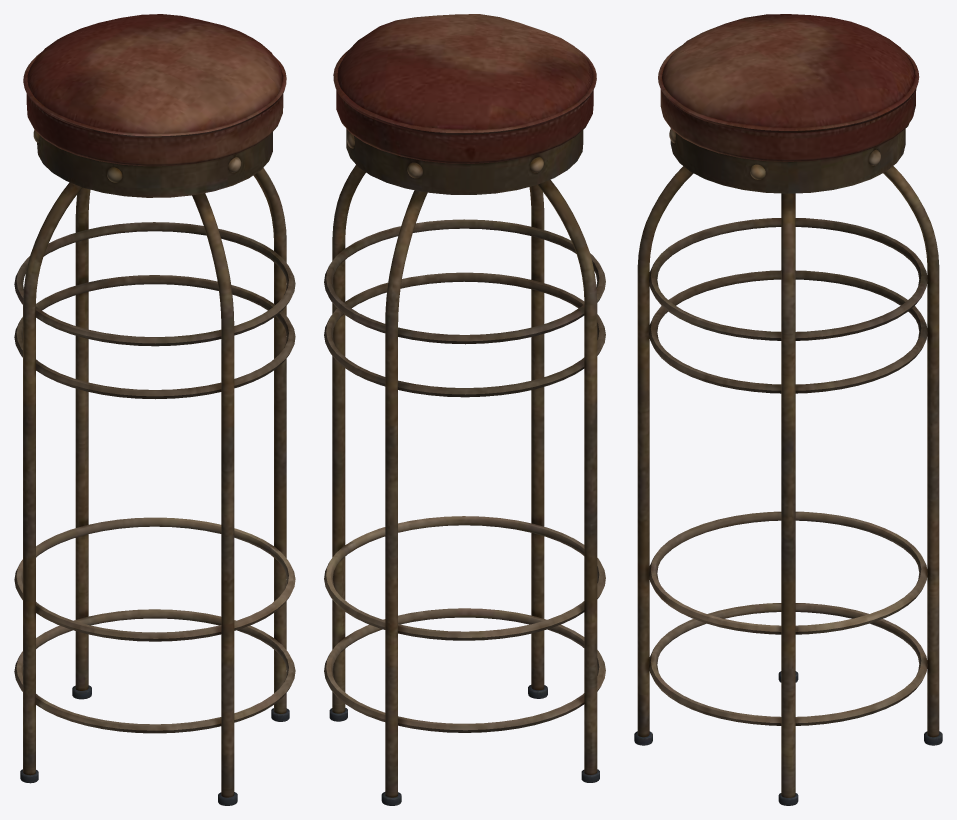
Rendered from metalstool.glb.
3 renders of one model, left to right at view 1: azimuth 30°, elevation 25°; view 2: azimuth 150°, elevation 25°; view 3: azimuth 270°, elevation 25°, orthographic.
Visible parts, largest first — view 1: metal_stool_01; view 2: metal_stool_01; view 3: metal_stool_01.
Part boxes in pixels (x1,y1,x2,y2): metal_stool_01: (14,14,295,805); metal_stool_01: (324,14,605,805); metal_stool_01: (634,14,942,805).
Bounding box in the file's own units: 0.352 × 0.8828 × 0.3546.
1 material, 1 textured.
